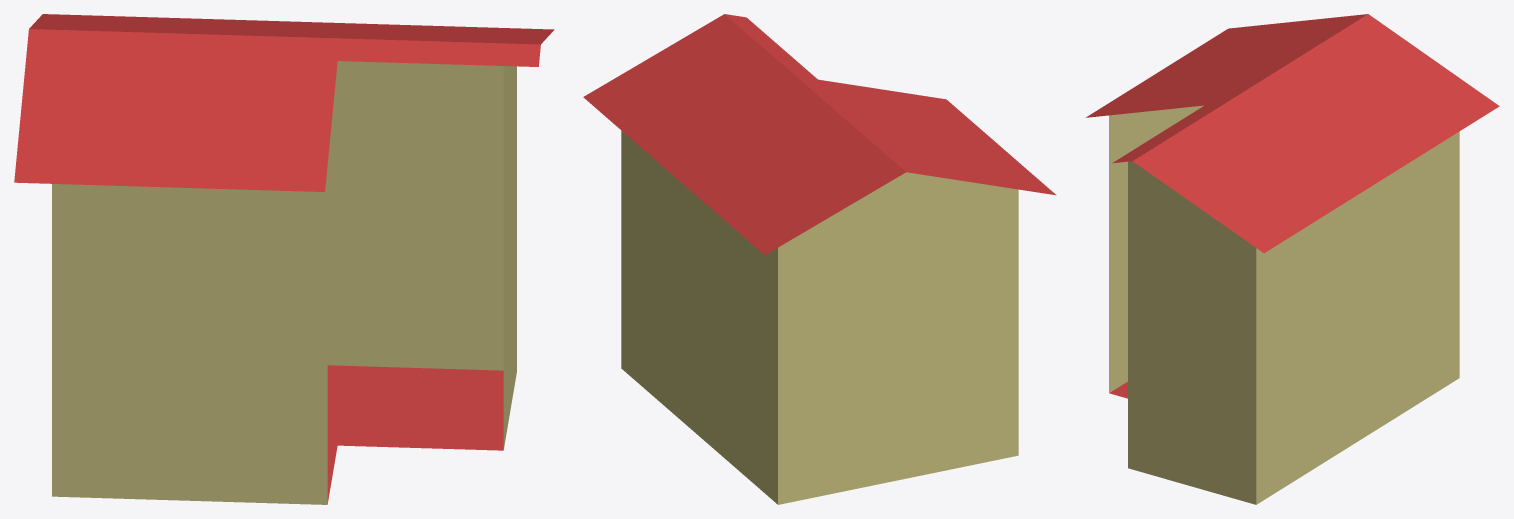
3 renders of one model, left to right at view 1: azimuth 30°, elevation 25°; view 2: azimuth 150°, elevation 25°; view 3: azimuth 270°, elevation 25°, orthographic. The views are drawn at different scales.
Parts seen in each view (by area): view 1: group_5, group_3, group_6, group_4; view 2: group_5, group_3, group_4; view 3: group_5, group_3, group_4.
Part boxes in pixels (bbox=[...]): group_5: bbox=[52, 61, 516, 504]; group_3: bbox=[14, 14, 554, 191]; group_6: bbox=[327, 365, 503, 503]; group_4: bbox=[14, 37, 326, 190]; group_5: bbox=[621, 131, 1018, 504]; group_3: bbox=[583, 14, 1056, 254]; group_4: bbox=[922, 96, 1053, 194]; group_5: bbox=[1109, 105, 1459, 504]; group_3: bbox=[1085, 14, 1499, 253]; group_4: bbox=[1087, 16, 1349, 117].
Bounding box in the file's own units: 13.81 × 10.76 × 9.25.
